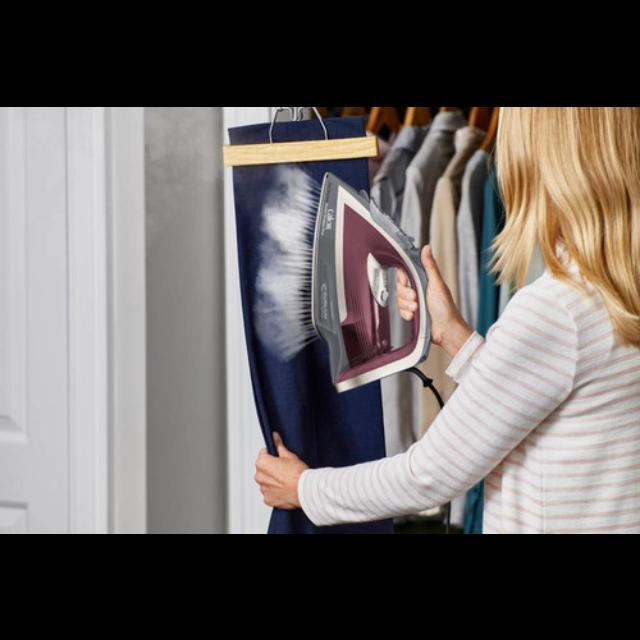Clothes-Iron: (310, 169, 438, 395)
